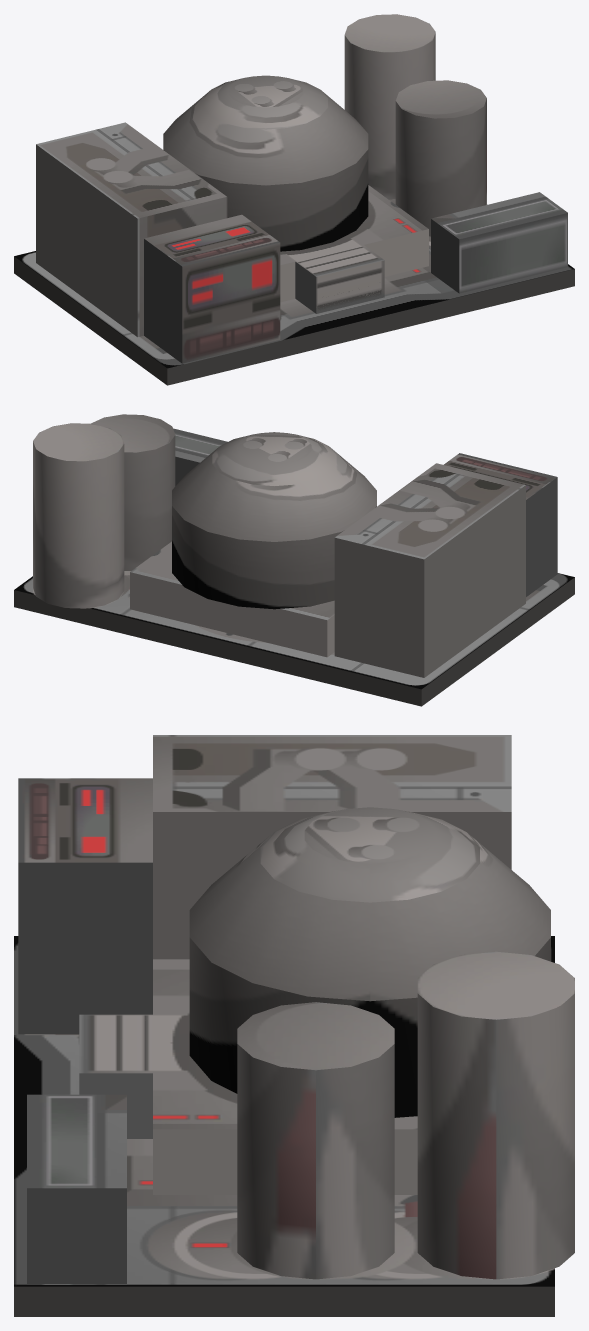
The model's file is Building_MechGestator.obj.
3 views of the same model, one above another, from view 1: azimuth 30°, elevation 25°; view 2: azimuth 150°, elevation 25°; view 3: azimuth 270°, elevation 25° (orthographic). The views are drawn at different scales.
Visible parts, largest first — view 1: Body; view 2: Body; view 3: Body.
Part boxes in pixels (<box>): Body: <box>14,14,574,385</box>; Body: <box>14,414,574,706</box>; Body: <box>14,735,574,1316</box>.
Size of the model in its own units: 2.98 by 1.2 by 2.02.
Materials: 1 (1 with a texture image).
